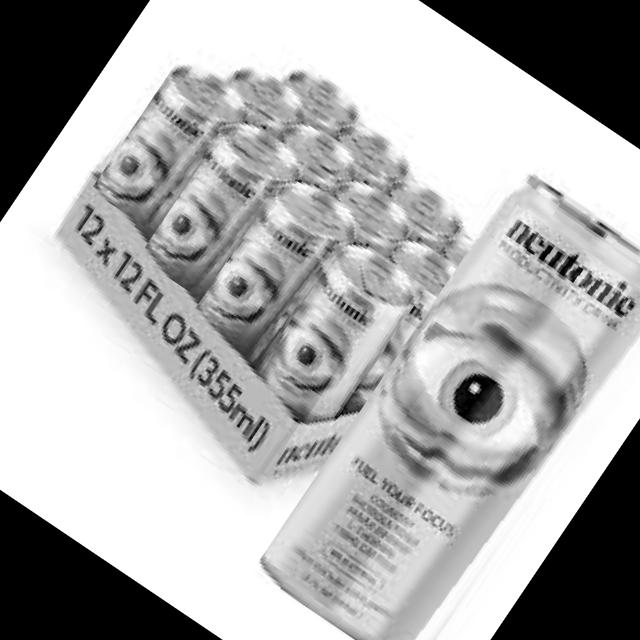Cans: (252, 158, 640, 640), (246, 232, 428, 439), (186, 167, 366, 373), (138, 109, 306, 304), (90, 49, 256, 238)
